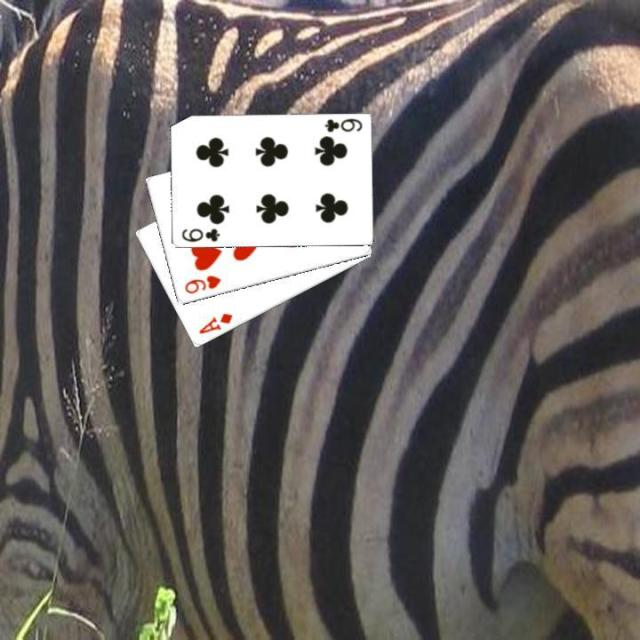6C: (320, 115, 364, 134), (178, 225, 220, 244)
9H: (181, 271, 223, 296)
AD: (194, 309, 234, 336)
